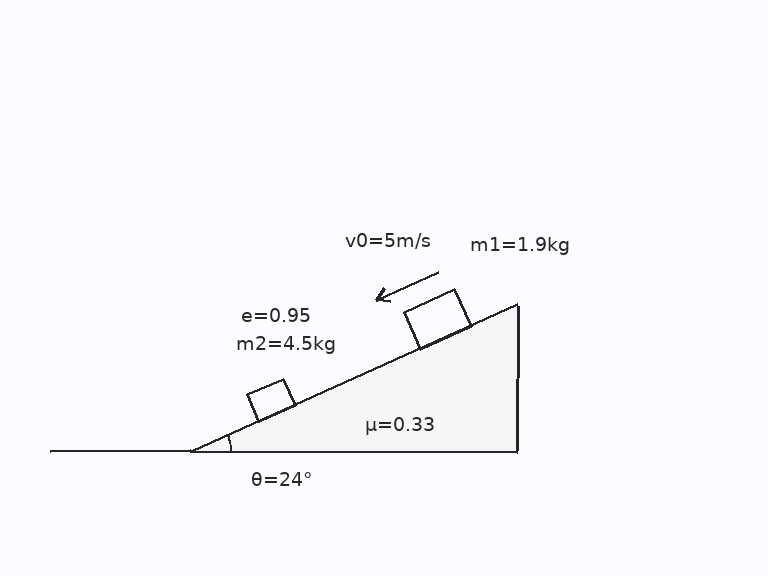block: (402, 287, 473, 351), (245, 376, 297, 423)
ramp: (189, 304, 519, 453)
